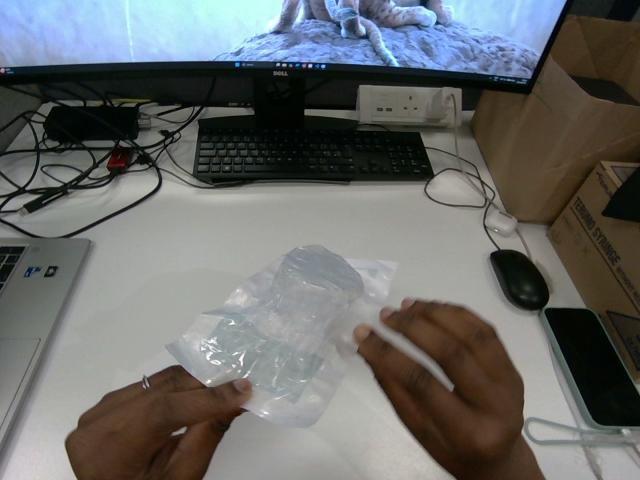gallipot: (167, 245, 395, 426)
